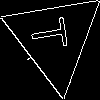T: (29, 14, 77, 52)
